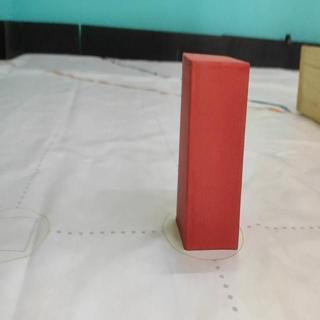redbox: (177, 53, 249, 249)
